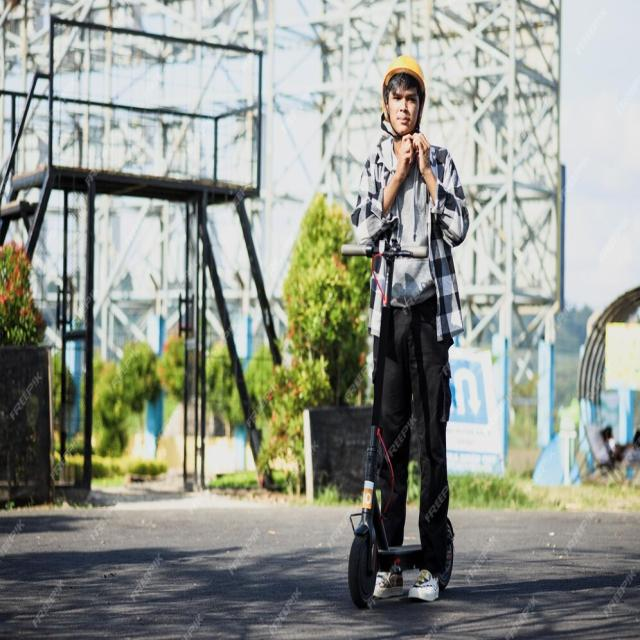helmet: (347, 48, 492, 630)
